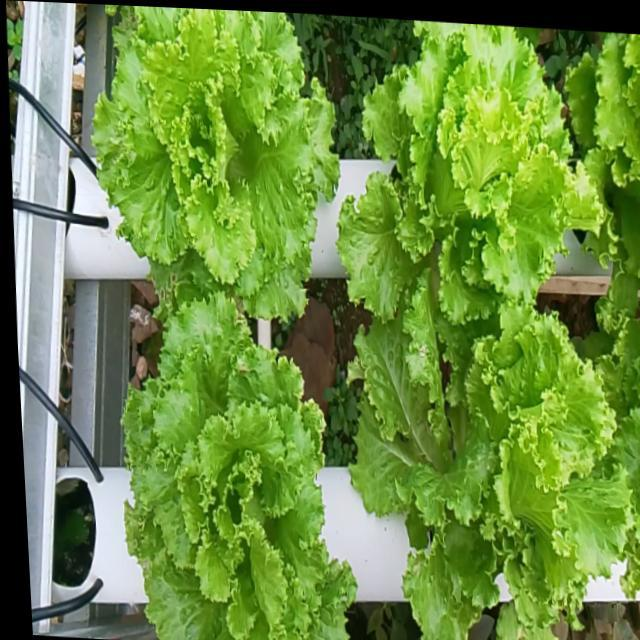Mature: (349, 314, 629, 640), (337, 20, 603, 352), (121, 276, 356, 640), (91, 5, 339, 319)
